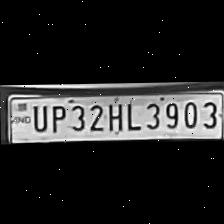0: (178, 96, 198, 127)
2: (84, 99, 104, 130)
3: (66, 99, 86, 130), (140, 98, 160, 129), (198, 97, 218, 128)
9: (160, 97, 180, 127)
H: (104, 98, 124, 130)
L: (123, 98, 141, 130)
P: (46, 99, 66, 130)
U: (28, 100, 48, 131)
